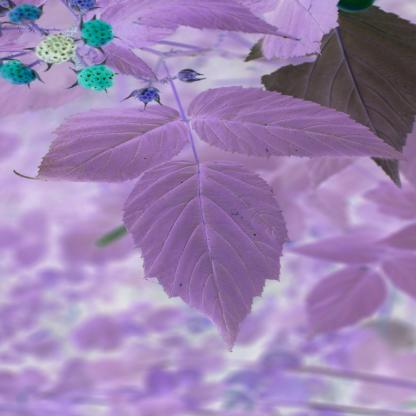raspberry leaf: (127, 161, 291, 358), (183, 85, 408, 160), (6, 102, 192, 186)
